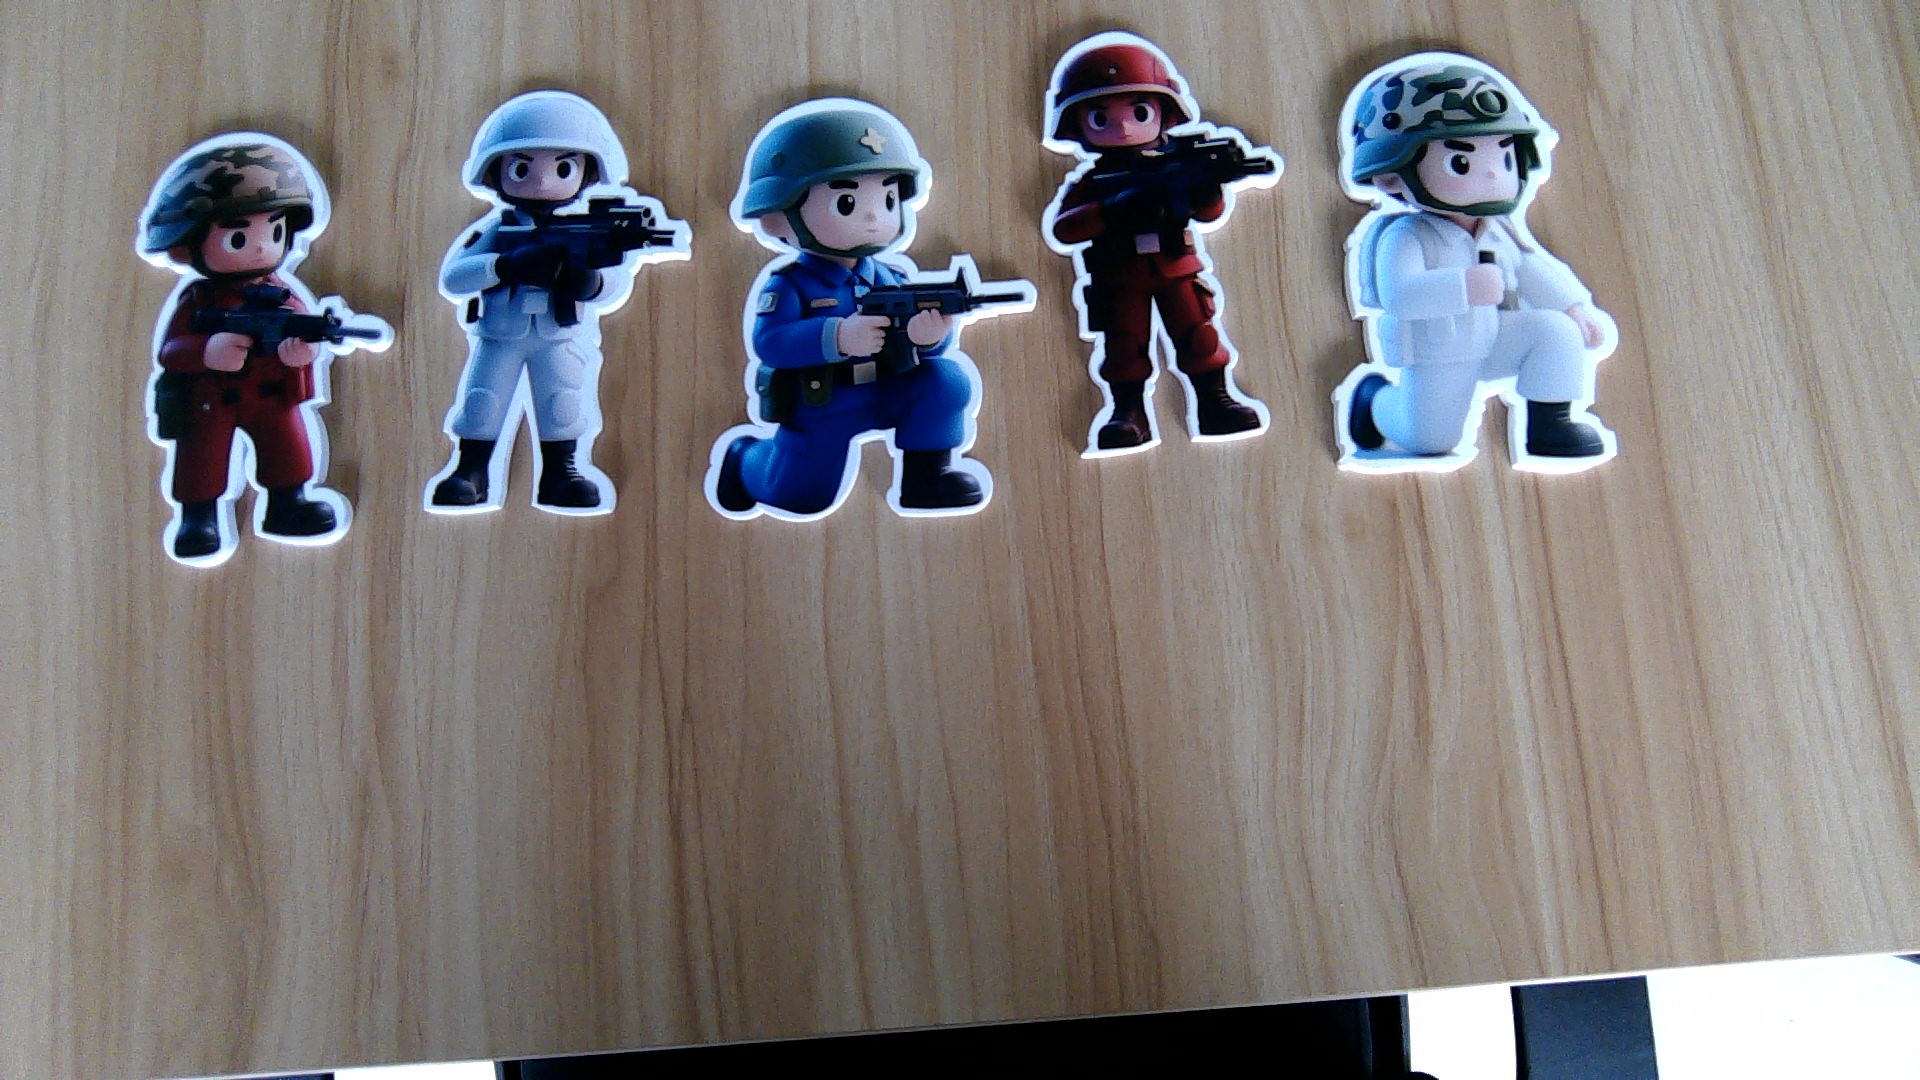人质: (422, 207, 676, 520), (1323, 222, 1625, 483)
敌人1: (1034, 150, 1286, 462), (137, 280, 386, 560)
敌人2: (702, 255, 1025, 527)
